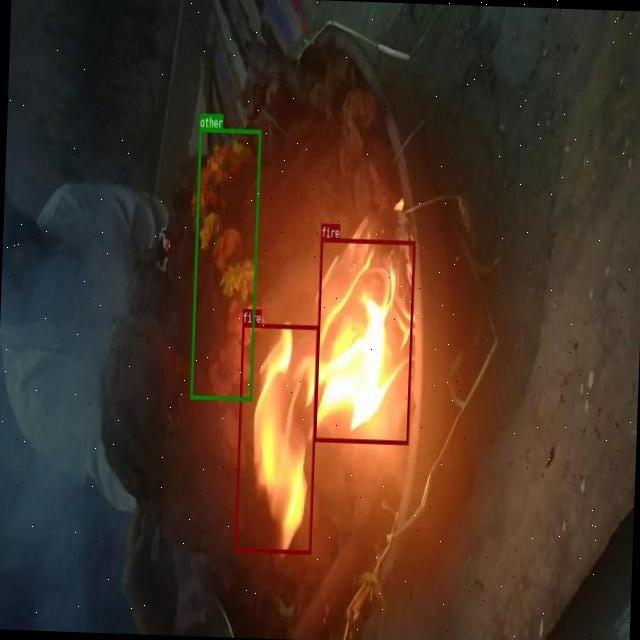fire: (313, 237, 415, 443), (234, 322, 318, 553)
